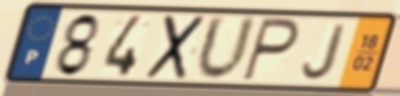4: (100, 13, 145, 79)
8: (53, 9, 103, 80)
J: (300, 22, 351, 82)
P: (238, 15, 303, 85)
U: (193, 13, 260, 84)
X: (141, 13, 209, 82)
